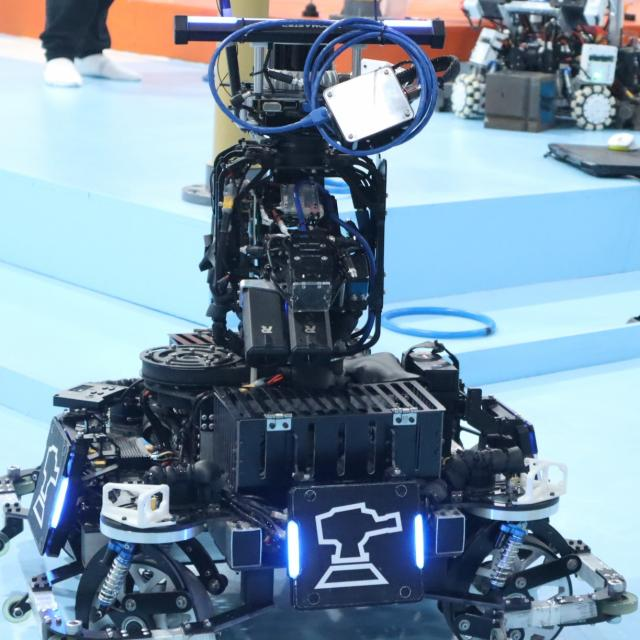Bs: (282, 488, 430, 598), (25, 433, 79, 538)
